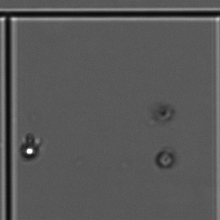Dead Cell: (155, 145, 175, 173), (154, 99, 173, 122)
Living Cell: (21, 138, 41, 162)
